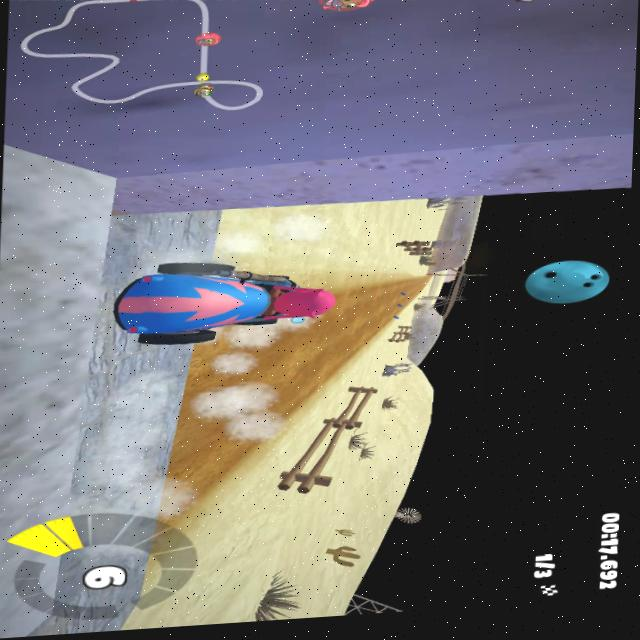nitro: (393, 303, 407, 311), (391, 314, 402, 323), (401, 290, 411, 296)
player_kart: (119, 246, 332, 350)
track: (186, 339, 329, 406), (159, 404, 241, 515), (237, 401, 298, 451), (330, 295, 392, 337), (323, 335, 370, 375), (336, 281, 411, 296), (411, 276, 433, 293)
